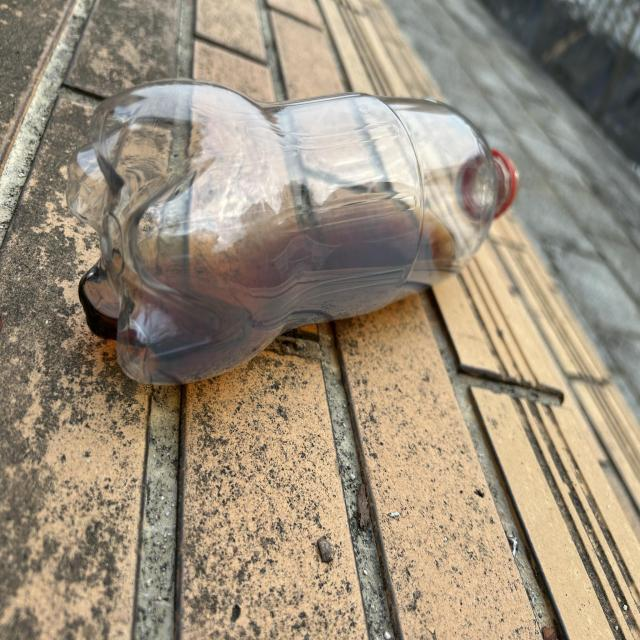low: (67, 80, 518, 385)
